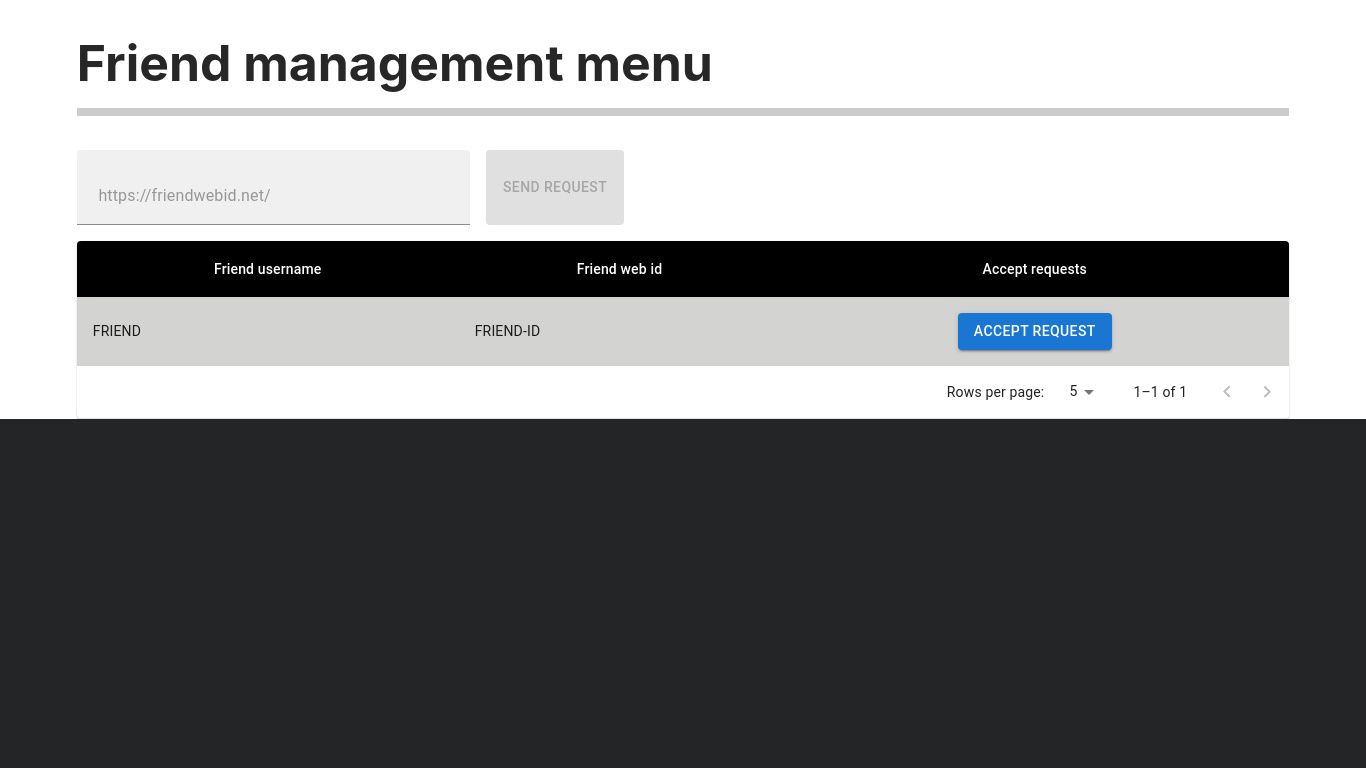
Scenario: check accept friend request
Check: the heading "Friend management menu" is shown, box [77, 33, 1289, 116]
Check: the column heading "FRIEND" is shown, box [77, 297, 459, 366]
What coordinates should you click on to do the following:
click the button "Accept request"
I would click on:
 (1035, 331)
Its box is [958, 313, 1112, 350].
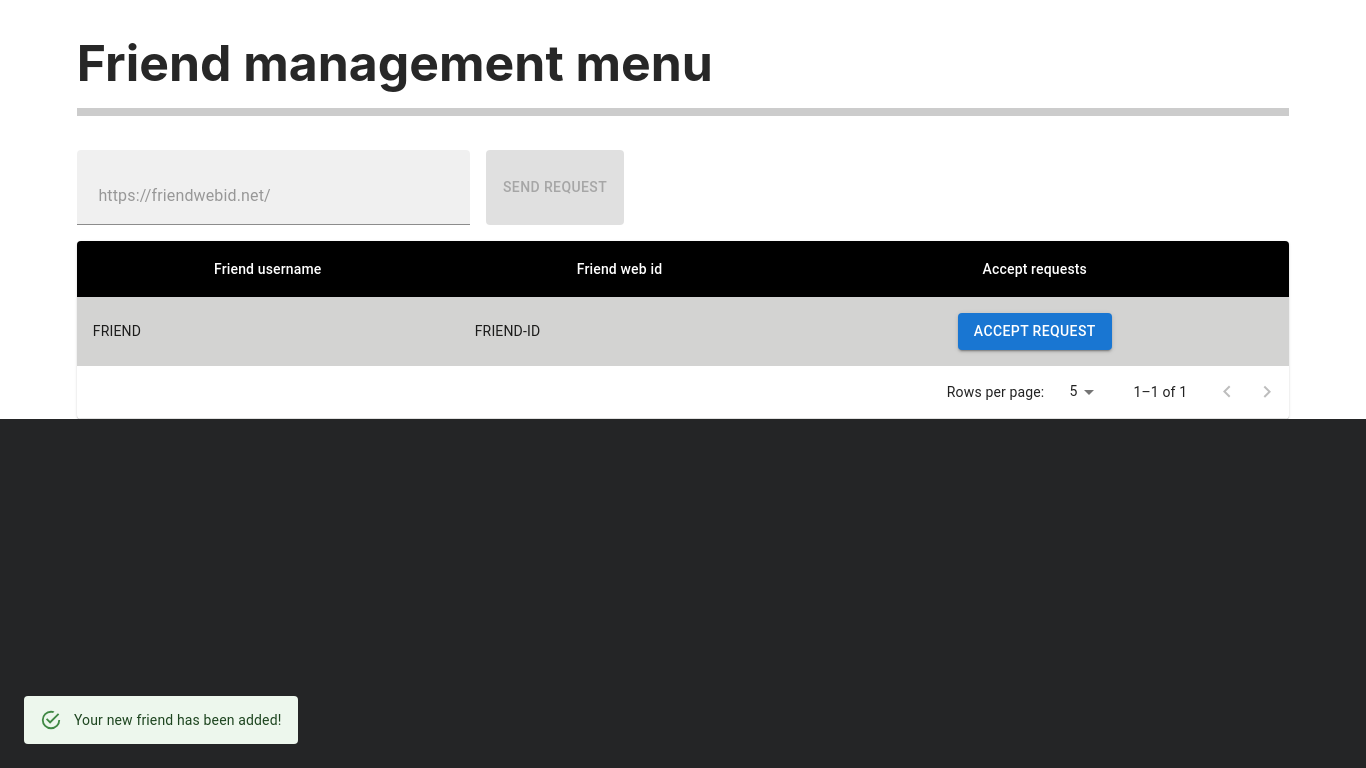
Check: the text "Your new friend has been added!" is shown, box [74, 712, 282, 728]
